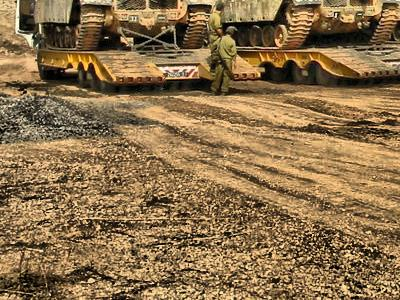tanks: (17, 1, 210, 88), (215, 1, 400, 85), (395, 1, 400, 43)
